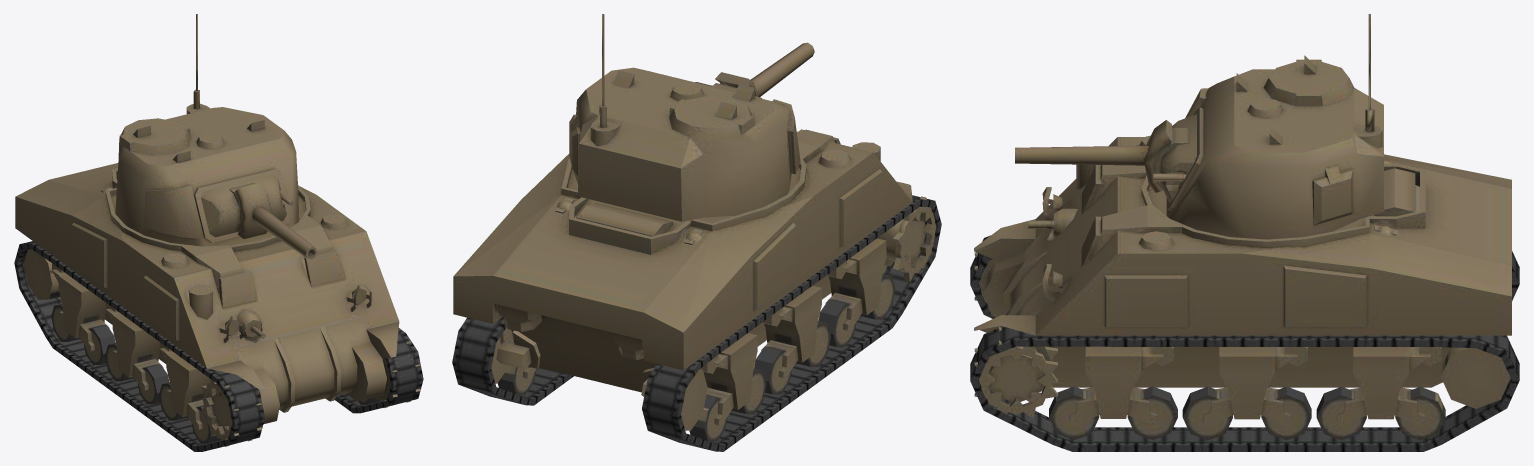
Rendered from realistic-by.76880fe3d732.tank.glb.
3 views of the same model, side by side, from view 1: azimuth 30°, elevation 25°; view 2: azimuth 150°, elevation 25°; view 3: azimuth 270°, elevation 25° (orthographic). The views are drawn at different scales.
Visible parts, largest first — view 1: tank; view 2: tank; view 3: tank.
Part boxes in pixels (x1=…): tank: x1=14, y1=14, x2=423, y2=451; tank: x1=452, y1=14, x2=941, y2=451; tank: x1=970, y1=14, x2=1519, y2=451.
Size of the model in its own units: 3.05 by 4.72 by 5.9.
Materials: 1 (1 with a texture image).
